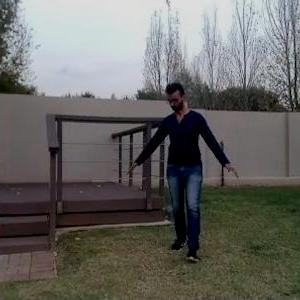land: (136, 79, 228, 271)
